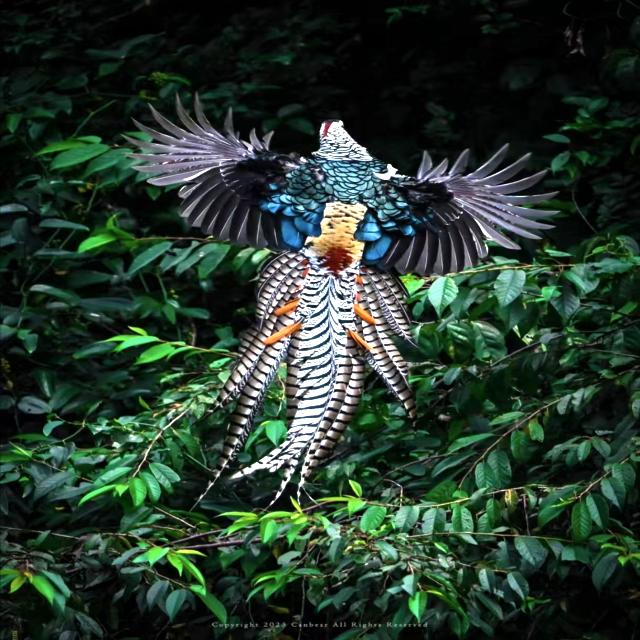Chrysolophus amherstiae: (216, 250, 413, 499)
